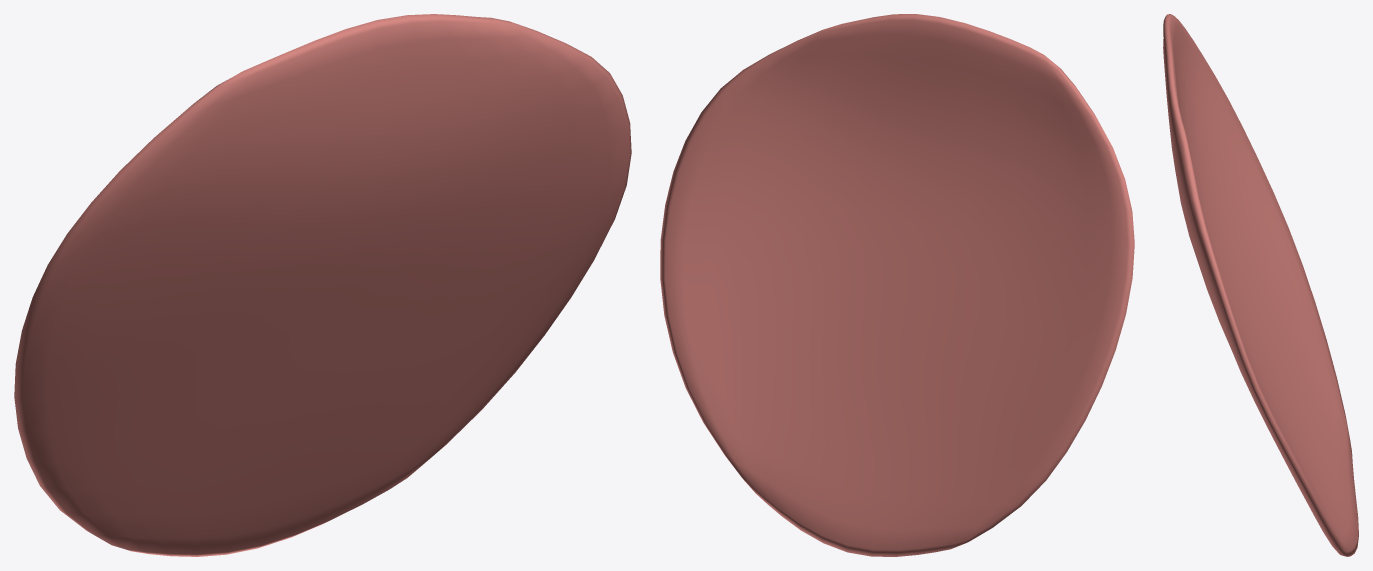
The picture shows the model from 3 angles, left to right: view 1: azimuth 30°, elevation 25°; view 2: azimuth 150°, elevation 25°; view 3: azimuth 270°, elevation 25°; orthographic projection. The views are drawn at different scales.
Parts seen in each view (by area): view 1: ZA_d27515e93438ada3; view 2: ZA_d27515e93438ada3; view 3: ZA_d27515e93438ada3.
Part boxes in pixels (x1,y1,x2,y2): ZA_d27515e93438ada3: (14,14,631,556); ZA_d27515e93438ada3: (660,14,1134,556); ZA_d27515e93438ada3: (1163,14,1358,556).
Bounding box in the file's own units: 0.0246 × 0.0239 × 0.00876.
